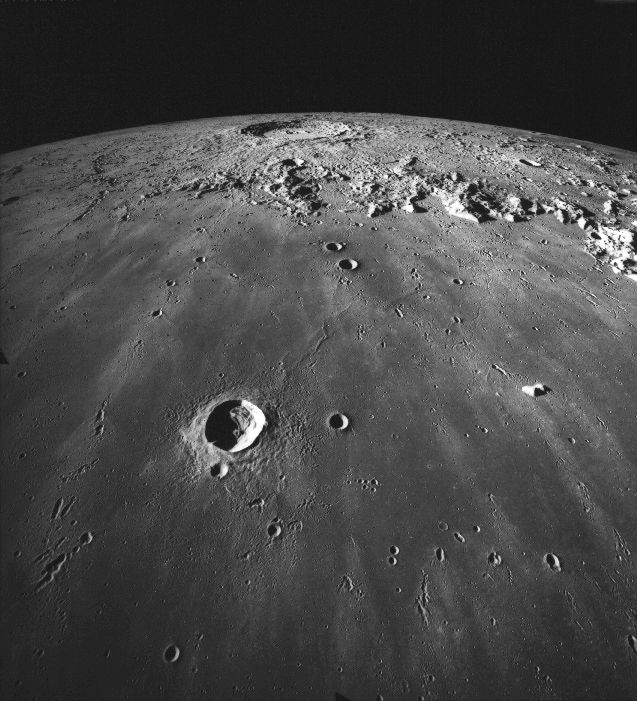crater: (156, 371, 299, 556), (312, 360, 402, 478), (122, 614, 237, 693), (206, 117, 395, 165), (527, 516, 591, 635), (326, 254, 393, 288), (304, 230, 370, 256), (439, 266, 472, 295)
